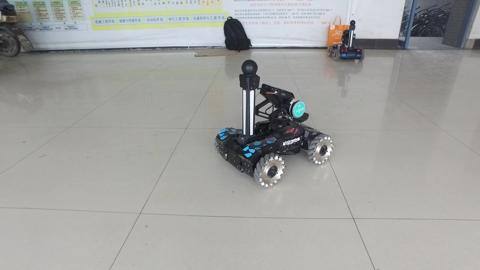bag: (220, 14, 254, 52), (326, 15, 352, 46)
chariot: (214, 58, 334, 188), (325, 18, 366, 62)
